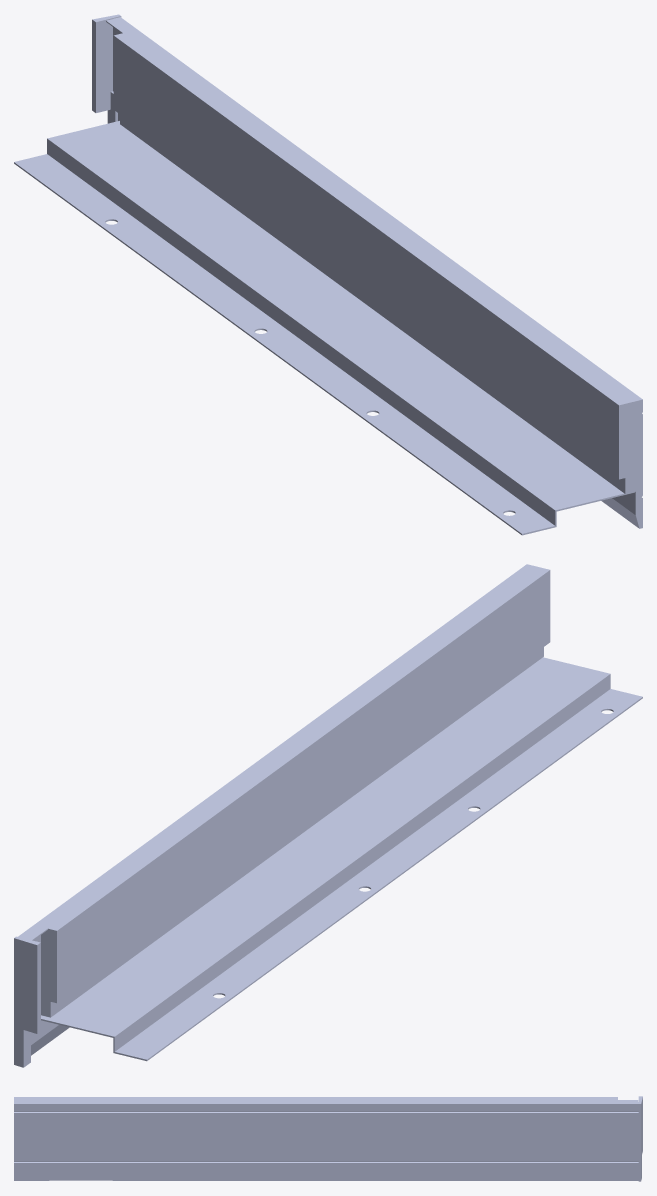
Rendered from lg-kava-N500-m.glb.
3 views of the same model, one above another, from view 1: azimuth 30°, elevation 25°; view 2: azimuth 150°, elevation 25°; view 3: azimuth 270°, elevation 25° (orthographic). The views are drawn at different scales.
Visible parts, largest first — view 1: 46542304; view 2: 46542304; view 3: 46542304.
Boxes of the visible parts, left/top/right/bottom form: 46542304: left=14, top=14, right=642, bottom=535; 46542304: left=14, top=564, right=642, bottom=1067; 46542304: left=14, top=1096, right=642, bottom=1181.
Size of the model in its own units: 0.0653 by 0.0672 by 0.4935.
